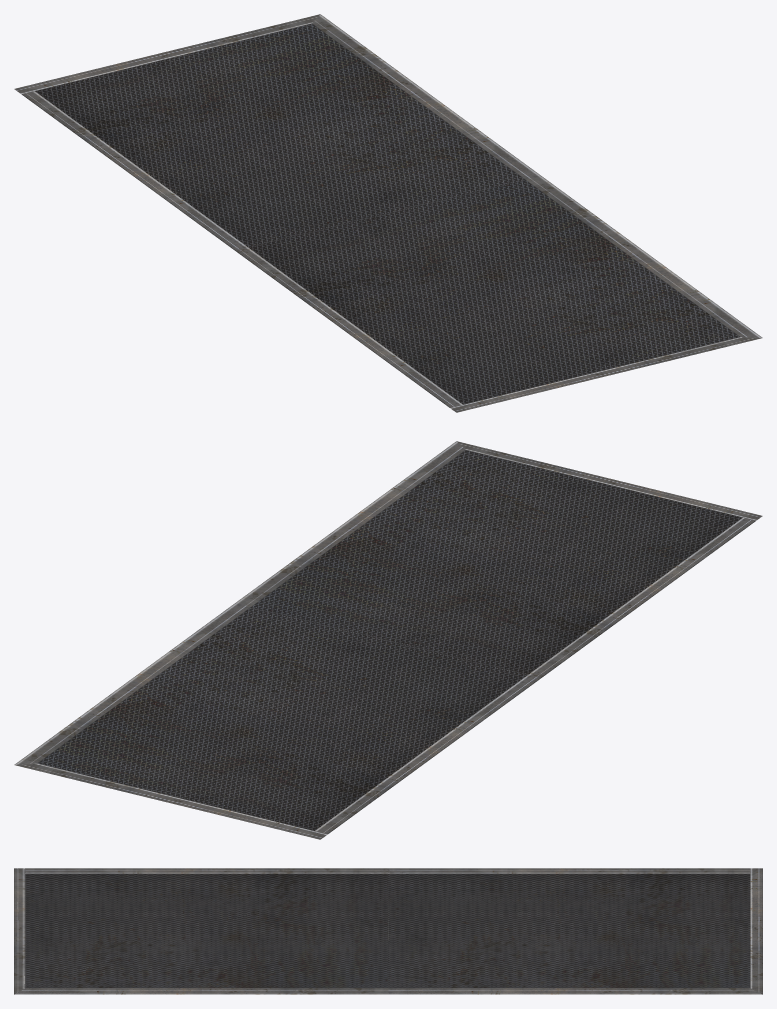
The model's file is Floor_G_2'5qmts_07.fbx.
The picture shows the model from 3 angles, top to bottom: view 1: azimuth 30°, elevation 25°; view 2: azimuth 150°, elevation 25°; view 3: azimuth 270°, elevation 25°; orthographic projection. The views are drawn at different scales.
Parts seen in each view (by area): view 1: Floor_G_2'5qmts_07; view 2: Floor_G_2'5qmts_07; view 3: Floor_G_2'5qmts_07.
Part boxes in pixels (x1,y1,x2,y2): Floor_G_2'5qmts_07: (14, 14, 762, 412); Floor_G_2'5qmts_07: (14, 441, 762, 839); Floor_G_2'5qmts_07: (14, 868, 762, 994).
Size of the model in its own units: 200 by 0.000124 by 500.
Materials: 1 (1 with a texture image).
